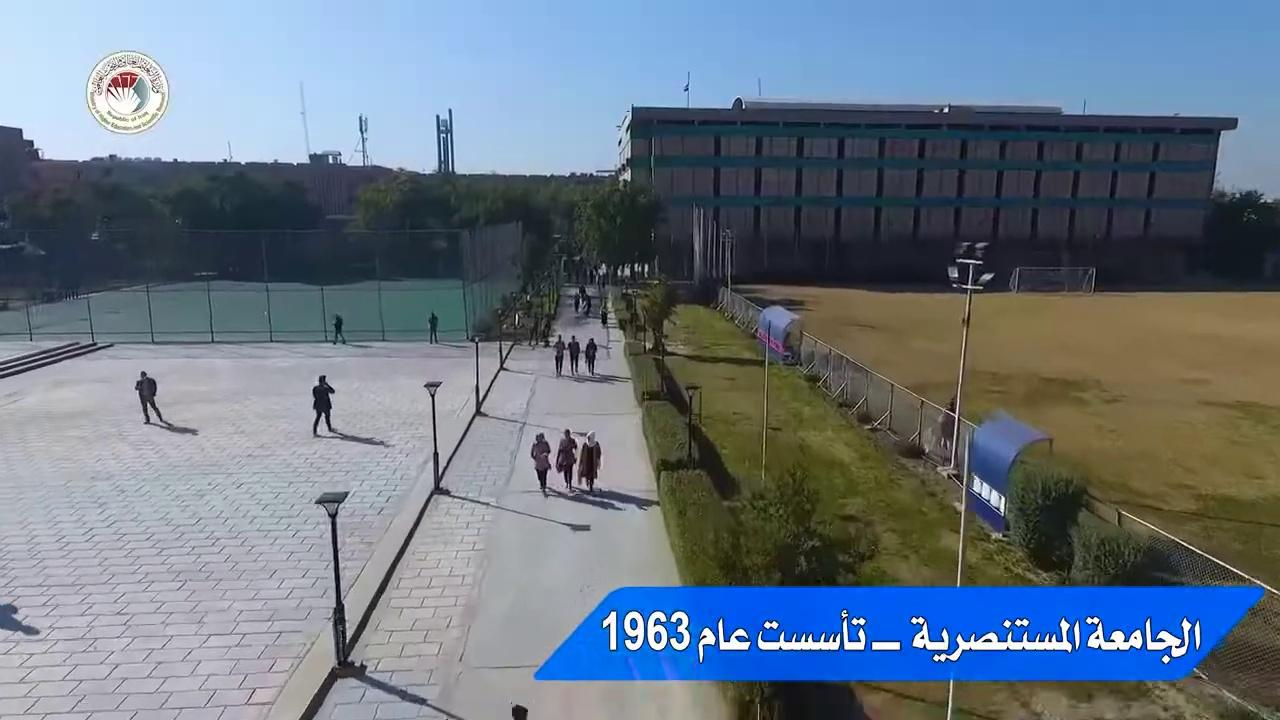fountain: (456, 215, 528, 341)
person: (577, 430, 602, 493), (134, 371, 163, 424), (311, 374, 335, 436), (937, 397, 958, 467), (555, 428, 577, 490), (529, 432, 551, 492), (552, 334, 565, 377), (567, 334, 580, 376), (584, 337, 597, 375), (331, 313, 345, 344), (427, 311, 438, 343)
tree: (352, 169, 661, 343), (699, 460, 883, 718), (1003, 457, 1088, 572), (570, 179, 661, 282), (1201, 184, 1278, 279), (1067, 519, 1149, 585), (637, 276, 679, 395)
